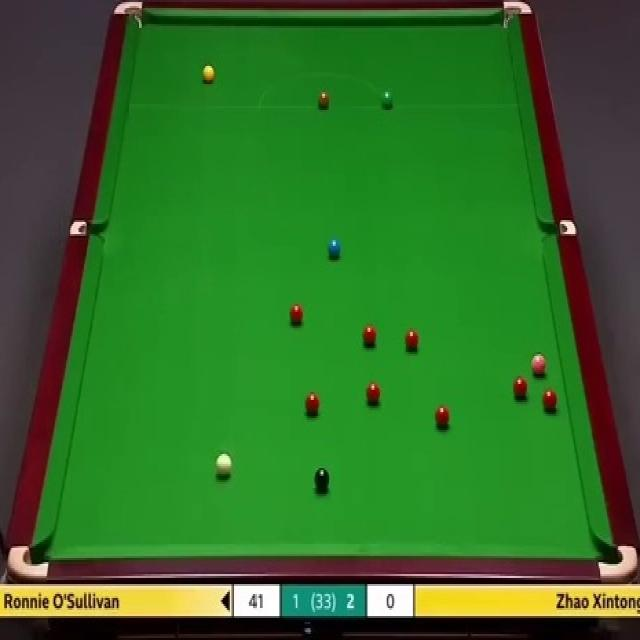pocket: (597, 543, 640, 582), (5, 541, 50, 577), (500, 0, 532, 31), (113, 0, 143, 29), (536, 217, 577, 235), (68, 217, 100, 238)
